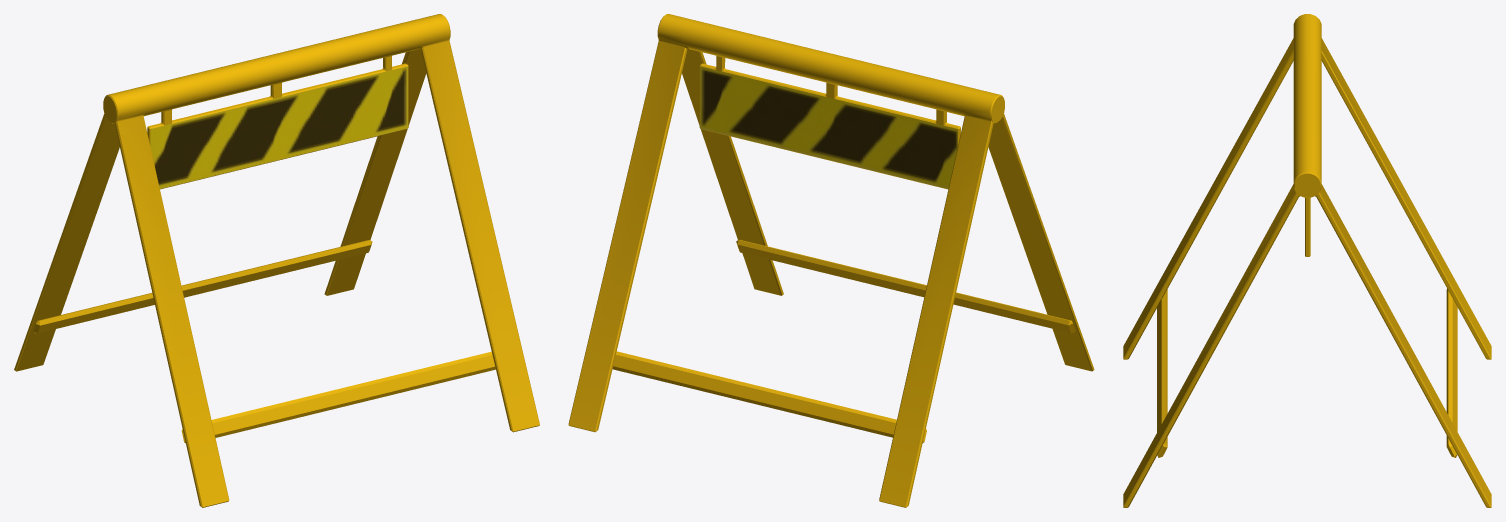
File: DangerStand.fbx
3 views of the same model, side by side, from view 1: azimuth 30°, elevation 25°; view 2: azimuth 150°, elevation 25°; view 3: azimuth 270°, elevation 25° (orthographic). The views are drawn at different scales.
Visible parts, largest first — view 1: Cube.039; view 2: Cube.039; view 3: Cube.039.
Part boxes in pixels (x1,y1,x2,y2): Cube.039: [14, 14, 539, 507]; Cube.039: [568, 14, 1094, 507]; Cube.039: [1123, 14, 1491, 507].
Size of the model in its own units: 107 by 103 by 103.
